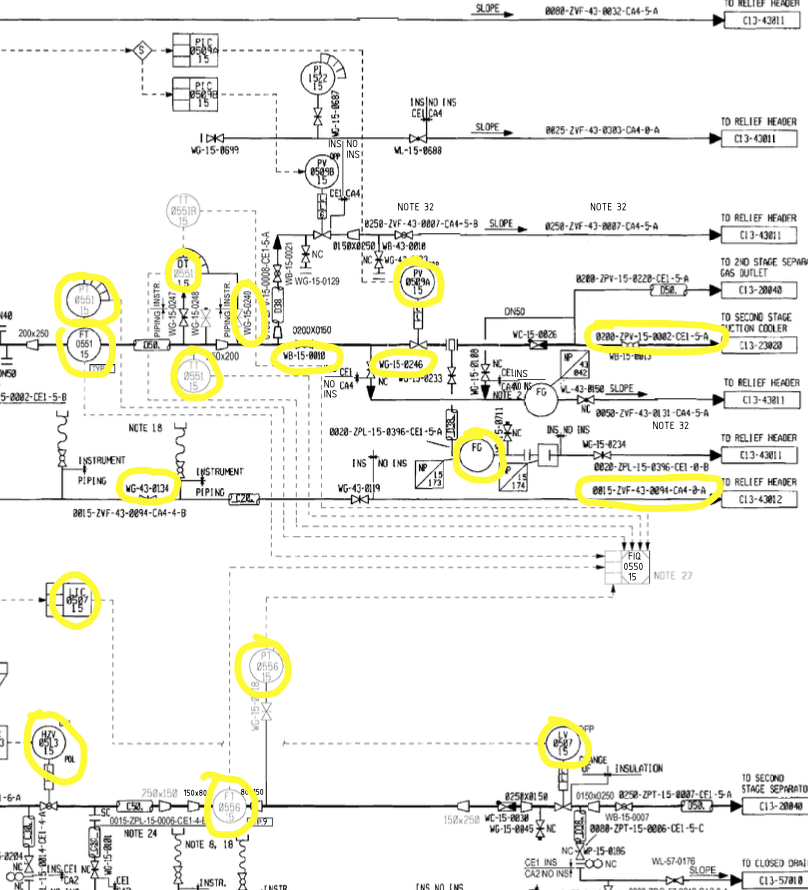Instrument: (167, 348, 214, 398), (395, 261, 441, 305), (540, 723, 586, 765), (162, 245, 202, 293), (246, 642, 288, 687), (207, 785, 252, 826), (295, 55, 337, 98), (63, 278, 105, 321), (64, 326, 102, 366), (303, 150, 339, 191), (32, 722, 67, 762)
Instrument-square: (166, 25, 222, 69), (169, 74, 221, 114)
